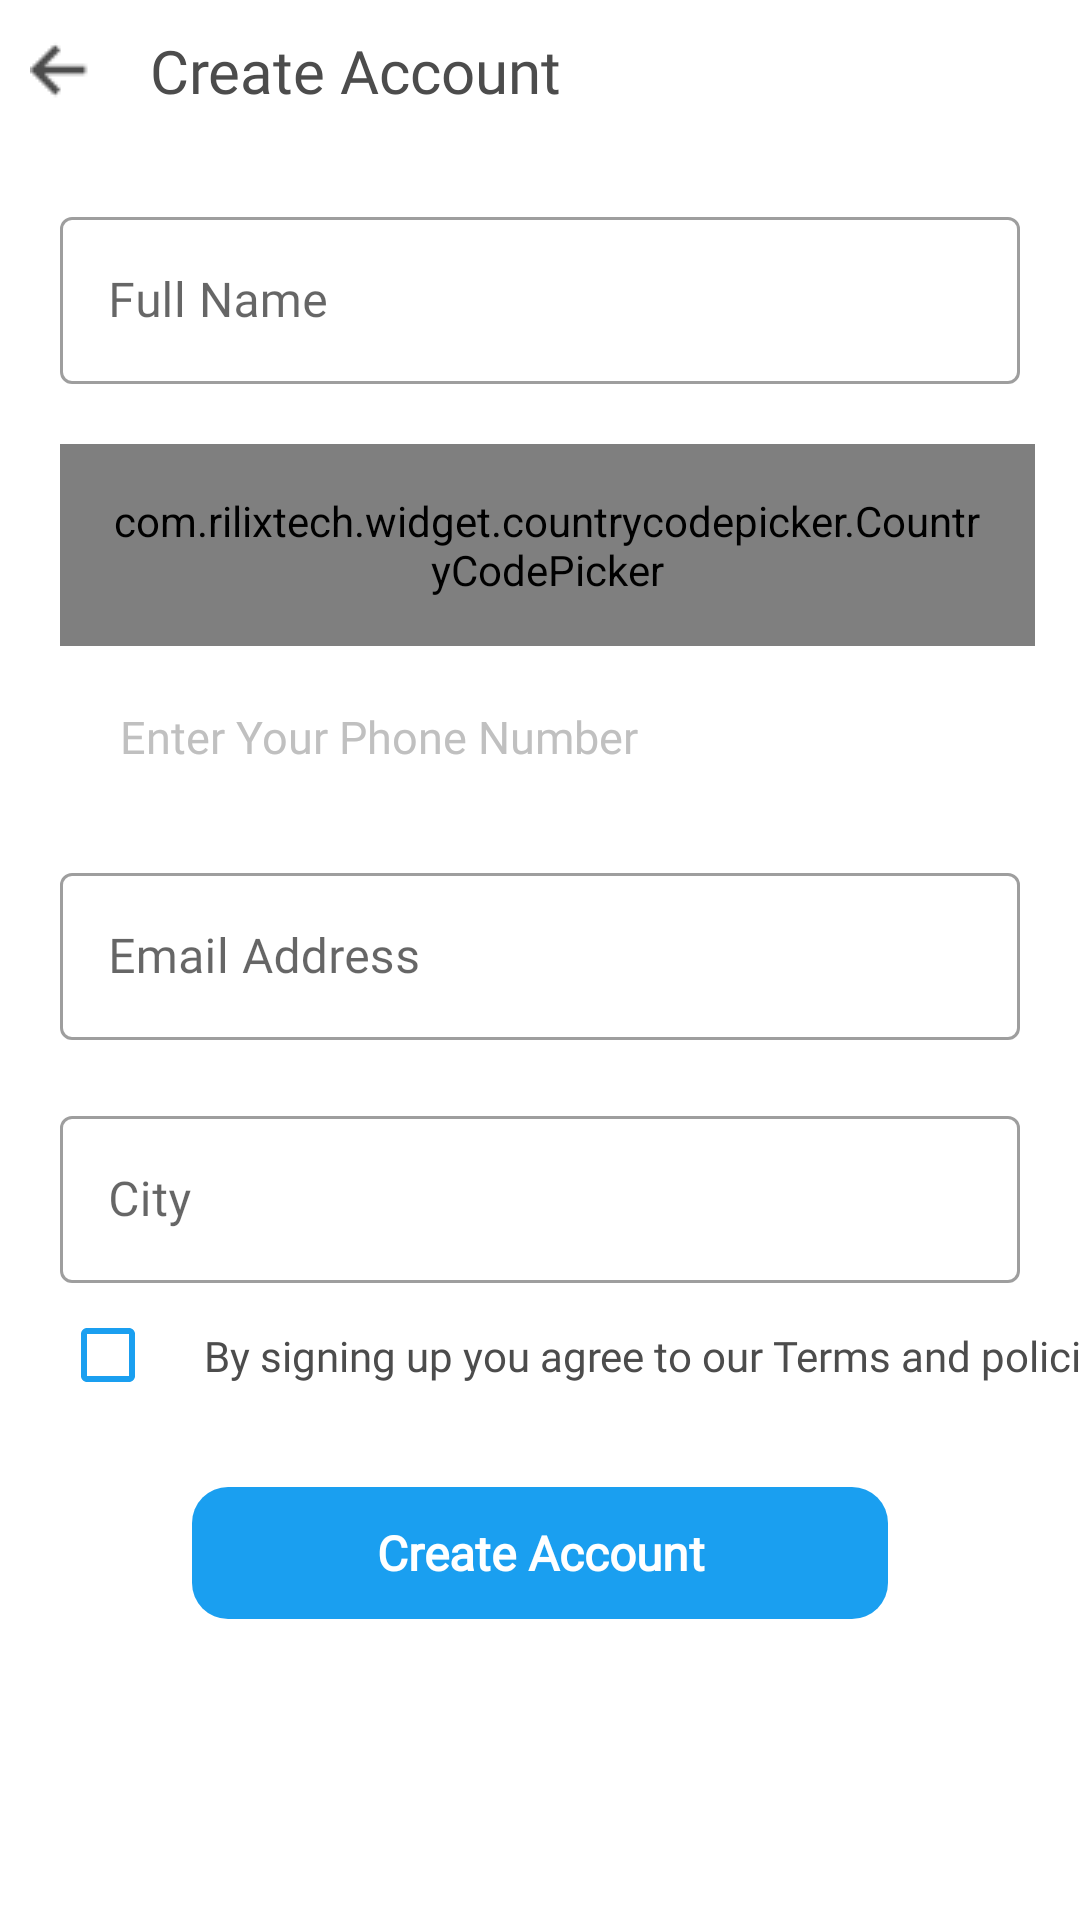

Locate icon controls on the screen. Image size 1080px×1920px, boxes as (x1, y1, x2, y2).
back: (30, 45, 87, 95)
